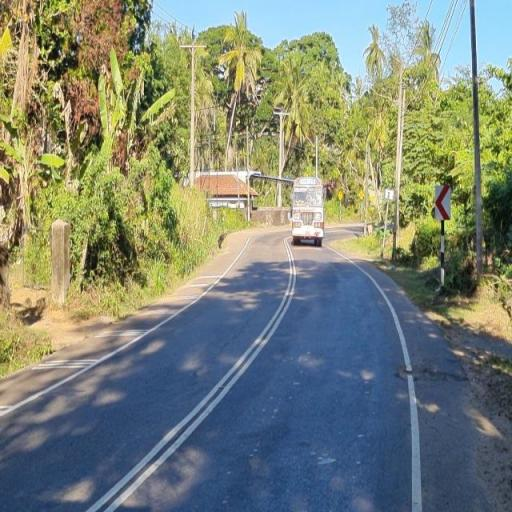double_white_line: (84, 234, 301, 510)
